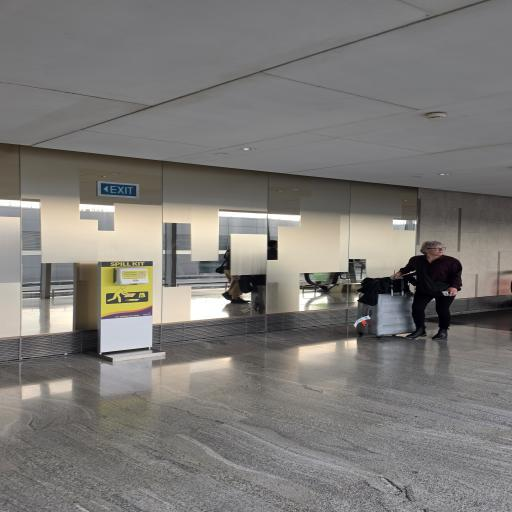person_with_luggage_left: (342, 232, 480, 350)
